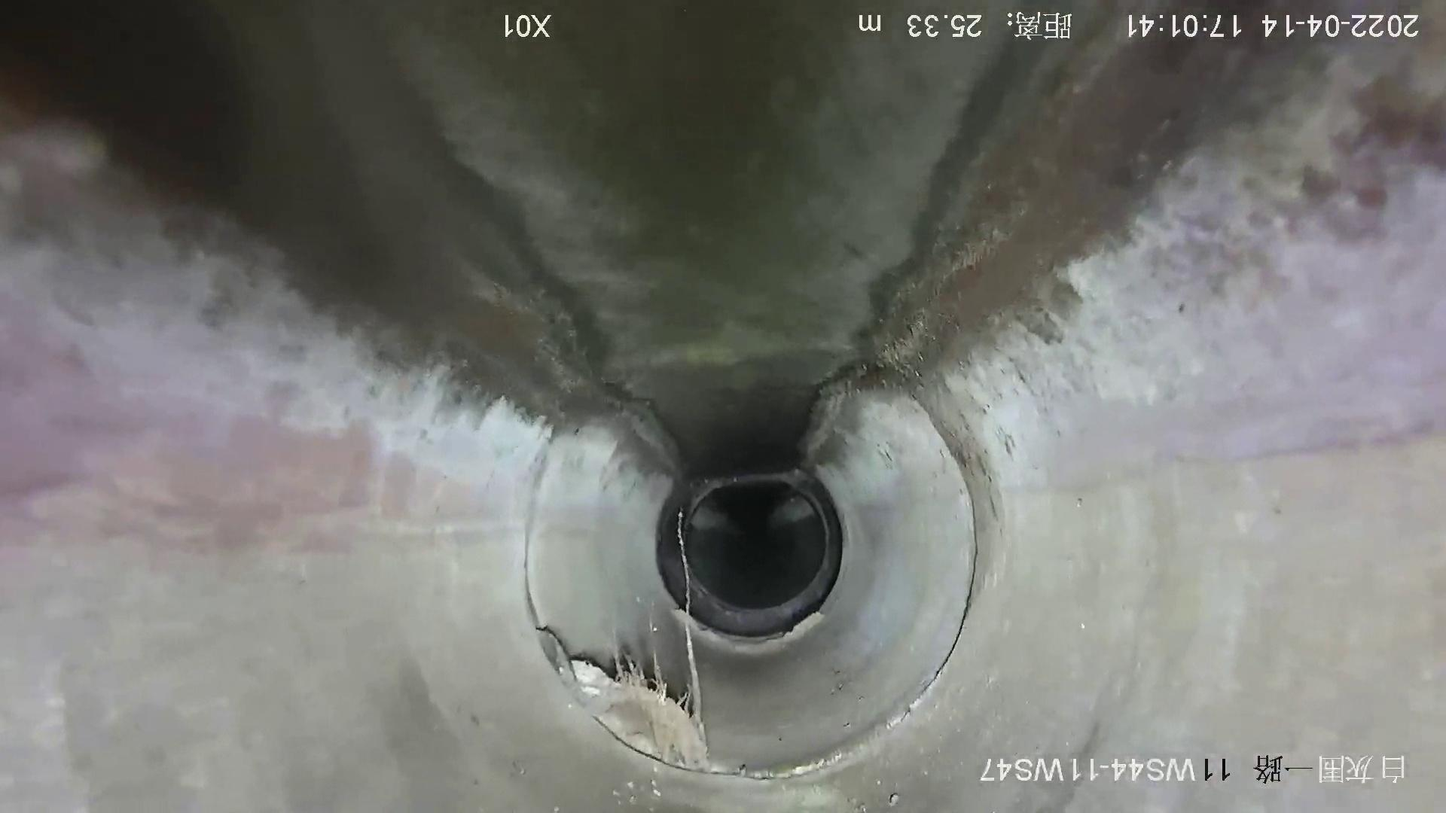JKCL: (543, 509, 722, 771)
